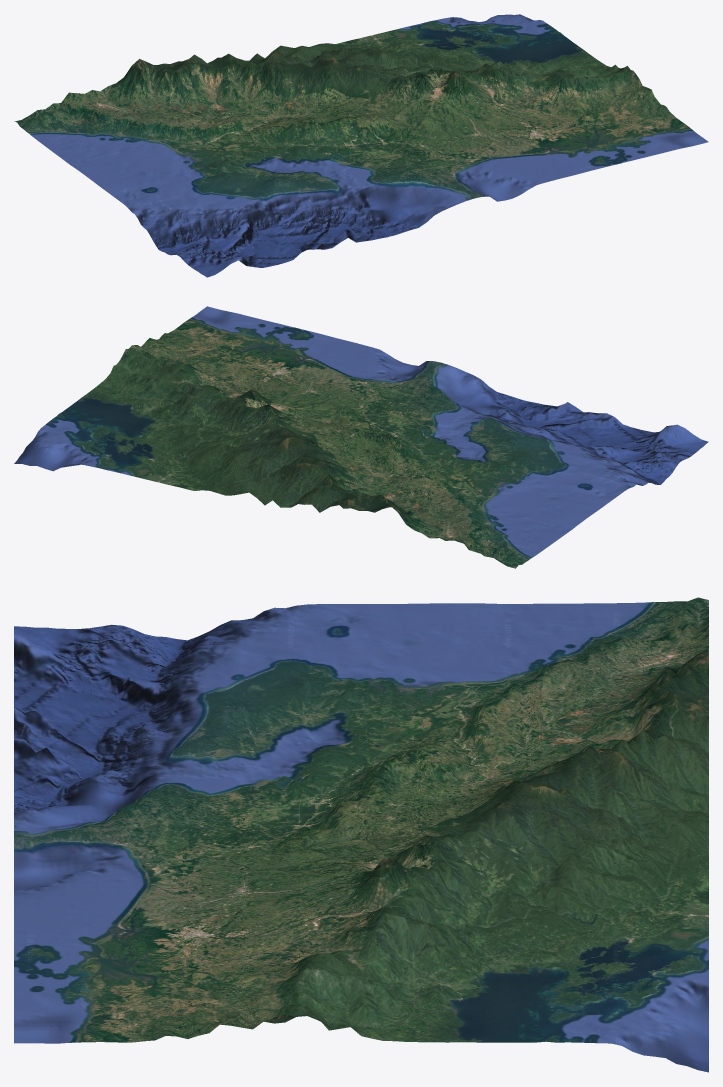
Rendered from prueba.glb.
3 views of the same model, one above another, from view 1: azimuth 30°, elevation 25°; view 2: azimuth 150°, elevation 25°; view 3: azimuth 270°, elevation 25° (orthographic). The views are drawn at different scales.
Visible parts, largest first — view 1: EXPORT_GOOGLE_SAT_WM; view 2: EXPORT_GOOGLE_SAT_WM; view 3: EXPORT_GOOGLE_SAT_WM.
Boxes of the visible parts, bbox=[...] form: EXPORT_GOOGLE_SAT_WM: bbox=[14, 14, 708, 277]; EXPORT_GOOGLE_SAT_WM: bbox=[14, 306, 708, 568]; EXPORT_GOOGLE_SAT_WM: bbox=[14, 597, 708, 1072].
Size of the model in its own units: 234815 by 24451 by 156543.
1 material, 1 textured.
